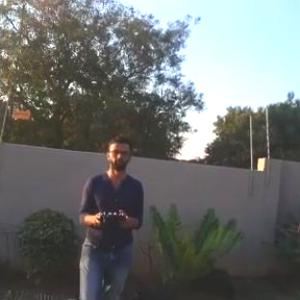follow: (73, 129, 150, 299)
